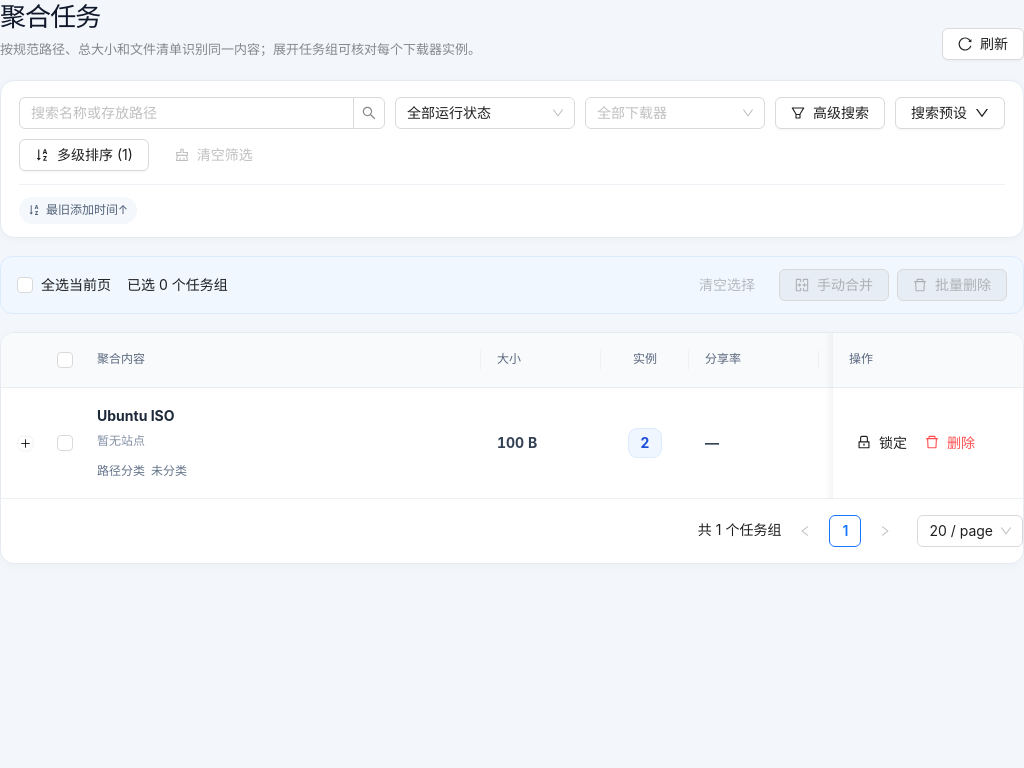
Test case: single-dialog deletion flow › preselects only the clicked instance when deleting from an expanded group
Click the button named "Expand row".
click(26, 444)  # box [18,436,34,452]
(page scrolled)
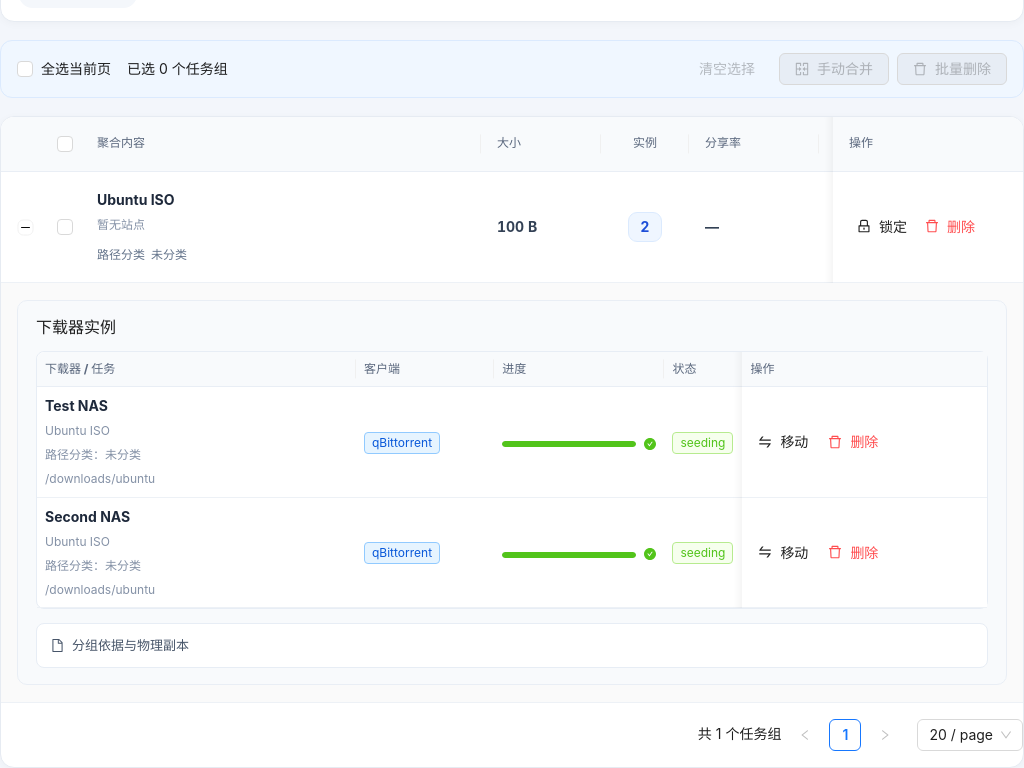
Click the button with aria-label "删除此任务".
click(853, 553)  # box [820,541,886,565]
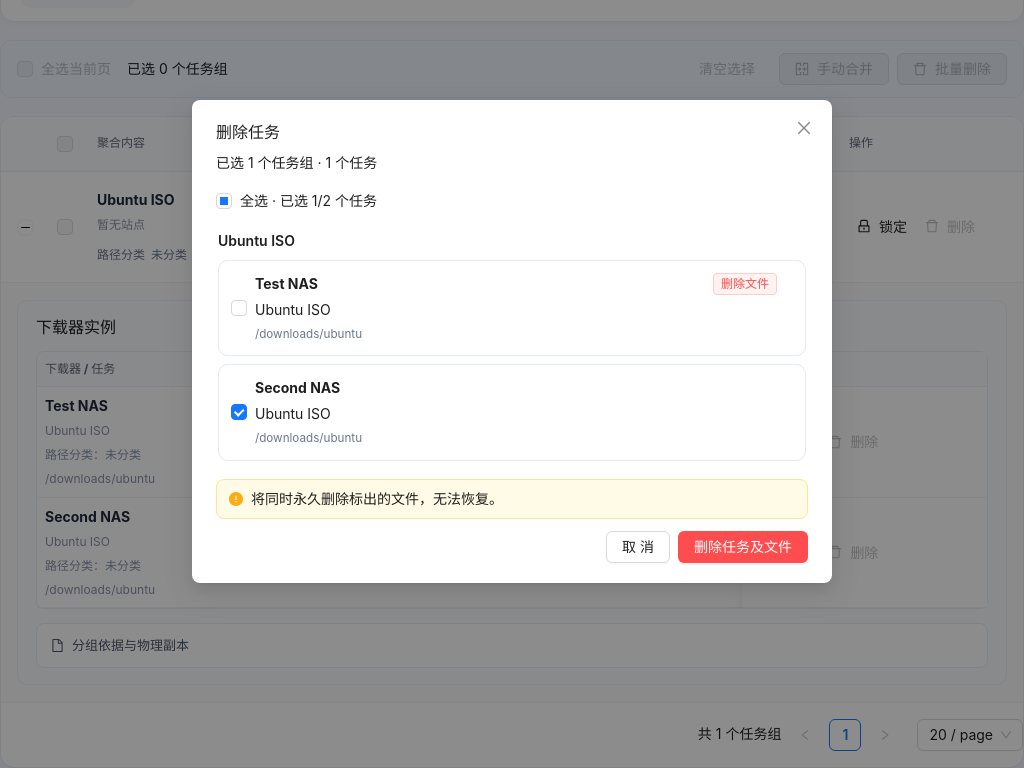
Expected: the 4th checkbox labelled "Second NAS Ubuntu ISO /downloads/ubuntu" is checked, [218,364,806,461]
Expected: the 4th checkbox labelled "Test NAS 删除文件 Ubuntu ISO /downloads/ubuntu" is not checked, [218,260,806,356]
